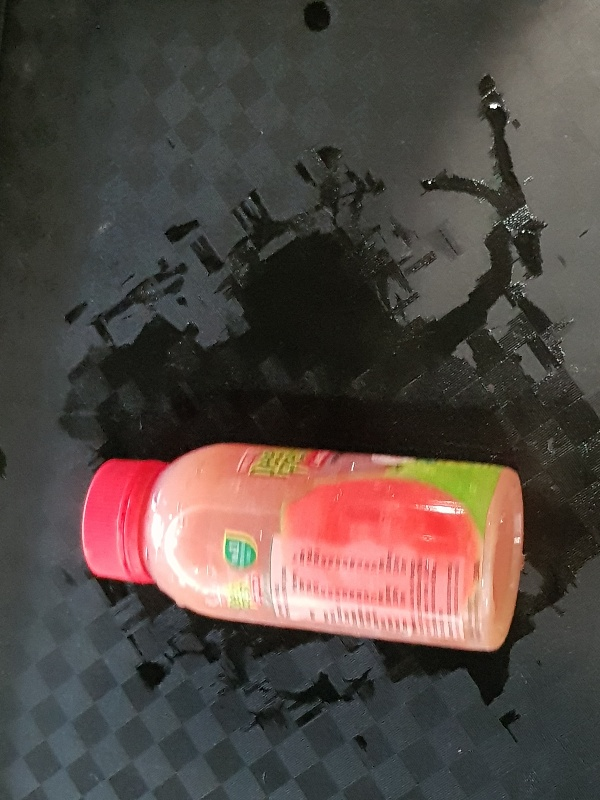Marigold Peel Fresh Pink Guava Juice Drink: (78, 441, 524, 653)
